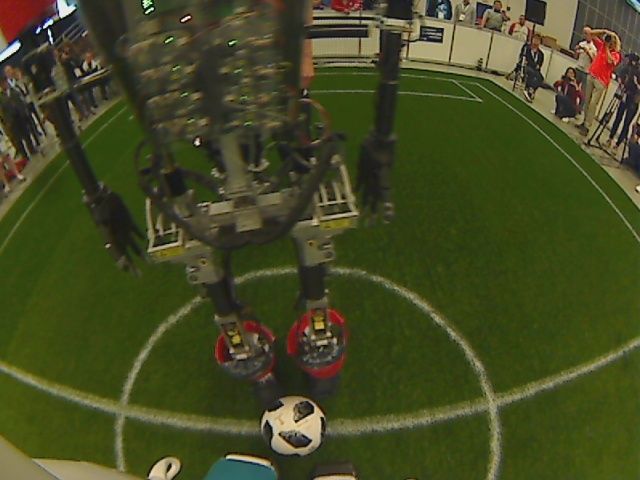ball: (258, 394, 331, 462)
